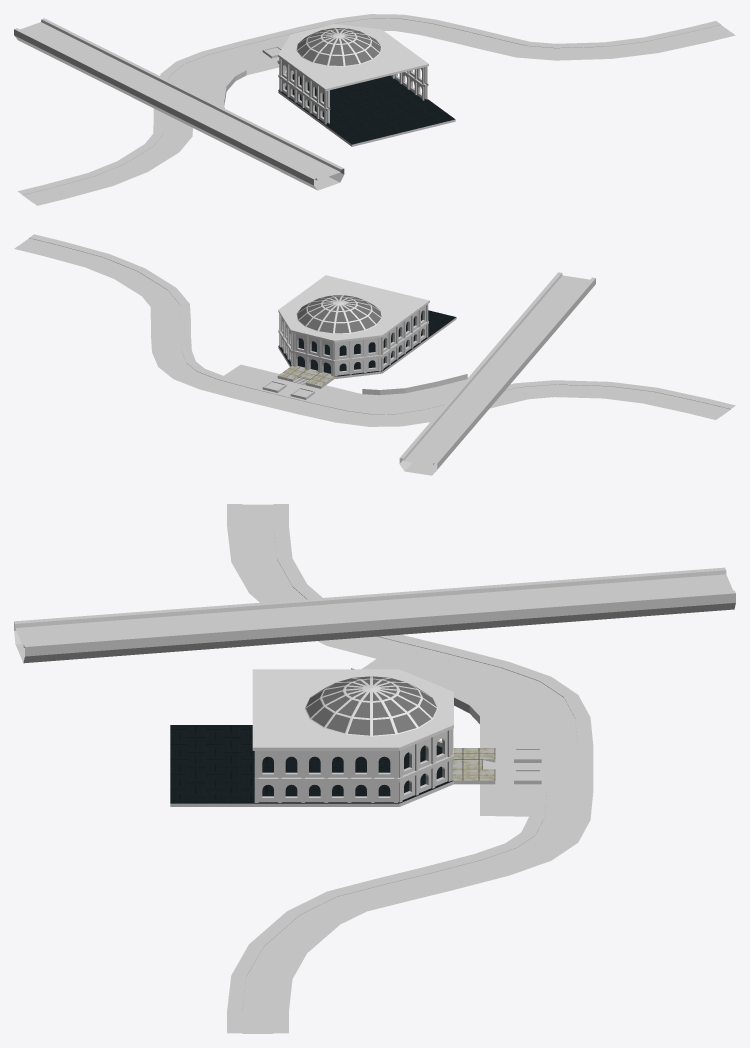
File: blockout01_test02.fbx
3 renders of one model, top to bottom at view 1: azimuth 30°, elevation 25°; view 2: azimuth 150°, elevation 25°; view 3: azimuth 270°, elevation 25°, orthographic. The views are drawn at different scales.
Visible parts, largest first — view 1: Plane.002, Plane.001, Cube, Cube.002, Sphere.001, Facade02.002, Sphere, Facade02.004; view 2: Plane.002, Plane.001, Cube.002, Cube, Sphere.001, Facade02.002, Facade02.001, Sphere, Facade01, Facade02, Cube.001; view 3: Plane.002, Plane.001, Cube, Cube.002, Facade02.004, Sphere.001, Sphere, Facade02, Cube.001.
Boxes of the visible parts, <box> form: Plane.002: <box>18,14,735,205</box>; Plane.001: <box>14,18,344,190</box>; Cube: <box>277,60,455,146</box>; Cube.002: <box>278,24,428,91</box>; Sphere.001: <box>297,28,380,65</box>; Facade02.002: <box>278,58,330,124</box>; Sphere: <box>296,28,381,66</box>; Facade02.004: <box>390,66,428,100</box>; Plane.002: <box>14,234,735,426</box>; Plane.001: <box>399,272,595,475</box>; Cube.002: <box>278,275,429,342</box>; Cube: <box>277,310,456,388</box>; Sphere.001: <box>297,295,381,333</box>; Facade02.002: <box>381,304,428,370</box>; Facade02.001: <box>334,337,381,376</box>; Sphere: <box>296,295,381,333</box>; Facade01: <box>291,333,334,376</box>; Facade02: <box>278,314,292,365</box>; Cube.001: <box>262,380,314,399</box>; Plane.002: <box>227,504,593,1033</box>; Plane.001: <box>14,567,735,663</box>; Cube: <box>170,725,495,806</box>; Cube.002: <box>252,669,453,750</box>; Facade02.004: <box>254,751,399,802</box>; Sphere.001: <box>306,676,436,735</box>; Sphere: <box>305,676,437,736</box>; Facade02: <box>398,729,453,802</box>; Cube.001: <box>514,748,541,784</box>.
Size of the model in its own units: 24278 by 1720 by 13993.
